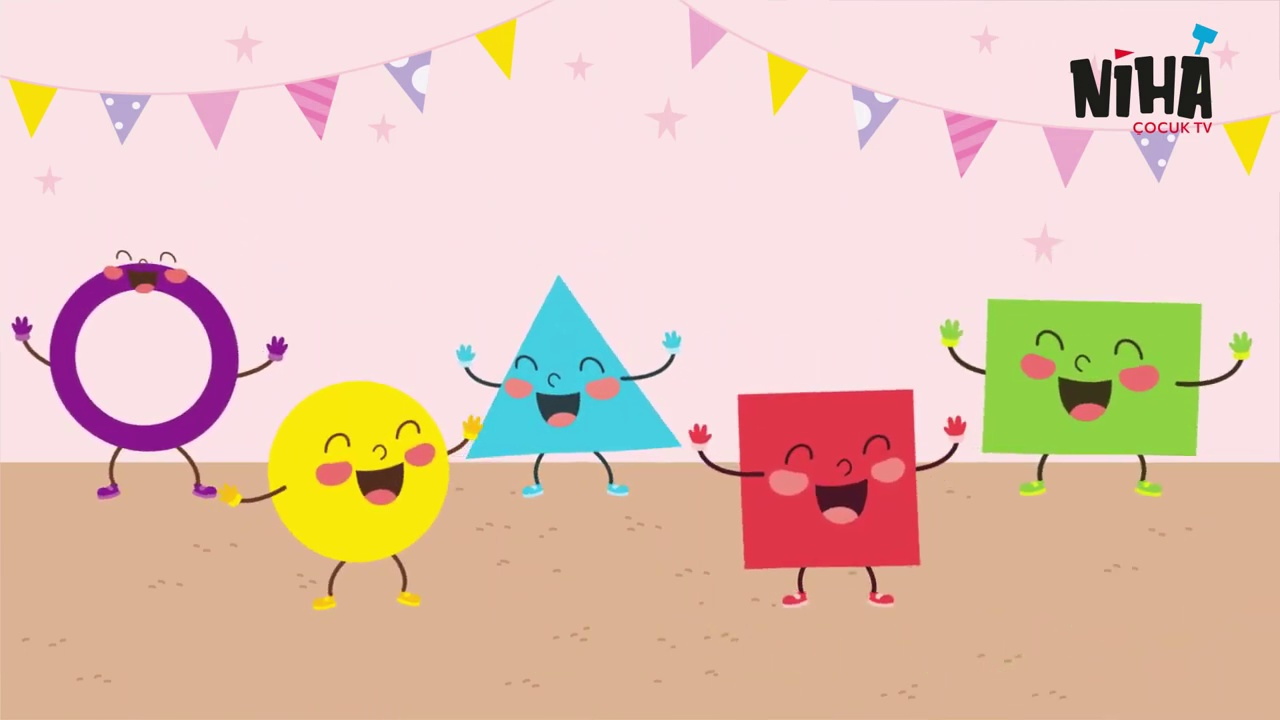daire: (44, 263, 253, 449), (262, 376, 450, 568)
dikdortgen: (983, 294, 1205, 462)
kare: (733, 387, 926, 571)
ucgen: (465, 279, 681, 473)
